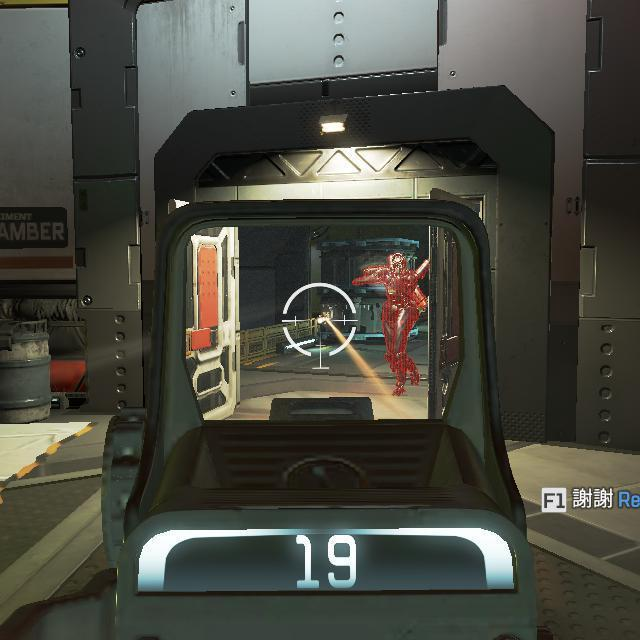avatar: (353, 251, 430, 397)
